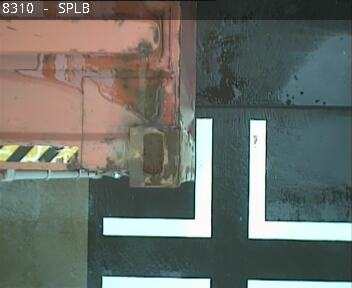groundmarker_1: (102, 119, 352, 241)
